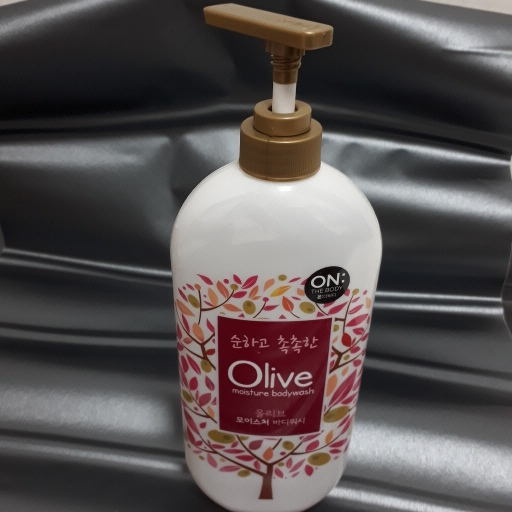Plastic_3: (162, 4, 382, 512)
